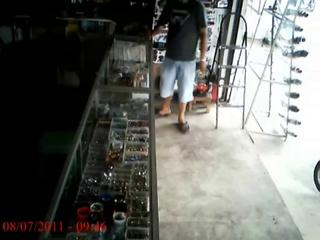Normal: (152, 0, 208, 130)
